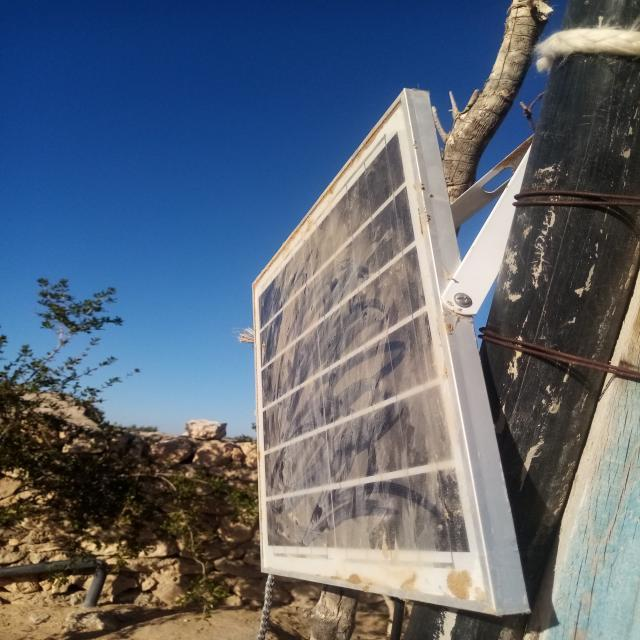faulty: (254, 95, 498, 611)
